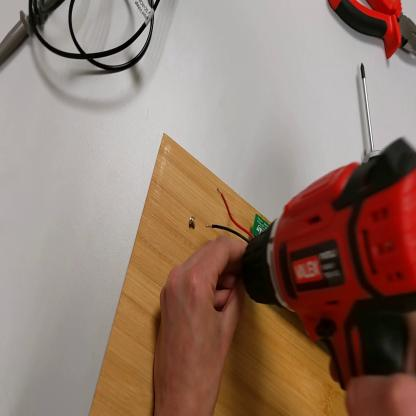electric screwdriver: (238, 140, 416, 389)
hand: (154, 238, 248, 416), (328, 310, 416, 415)
high voltage board: (207, 188, 269, 244)
oscilloscope probe tip: (2, 1, 66, 70)
pliers: (329, 2, 416, 59)
screwdriver-: (360, 56, 384, 162)
working area: (90, 134, 344, 416)
